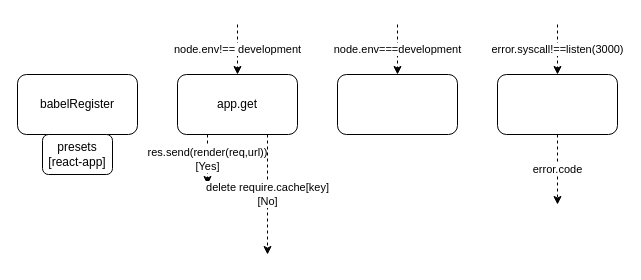
Some shapes in this 641 by 280 pixel diagram are drawn without their labels. The shapes that lost their labels are listed below. From the top down, each one's centre as x and y in pixels, then its label:
At (397,104): "app.use[proxy]".
At (557,104): "app.on".
